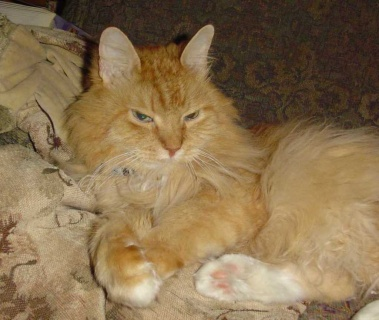Cat: (55, 22, 378, 302)
